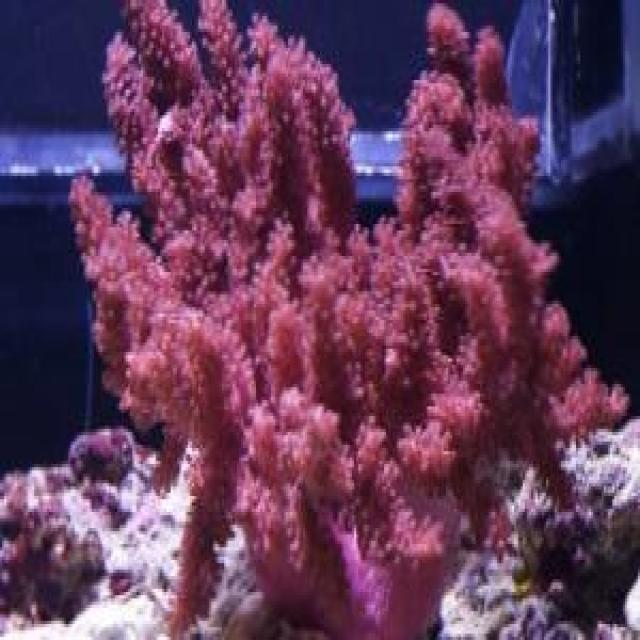healthy coral: (70, 2, 585, 638)
